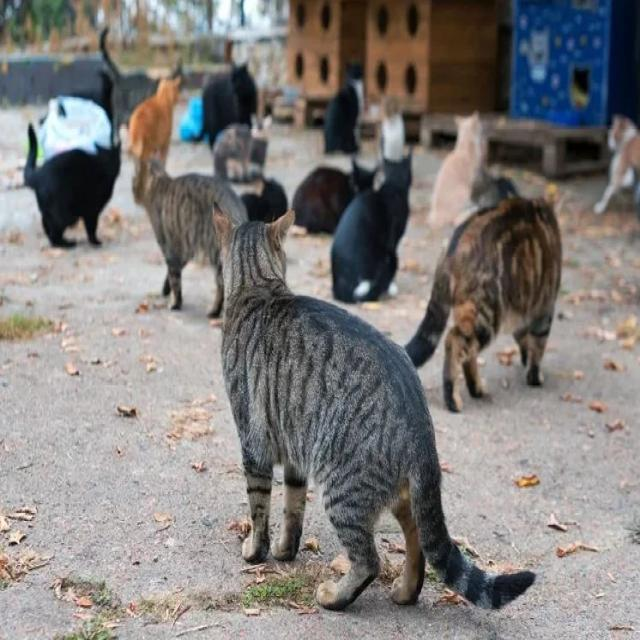cat: (212, 204, 534, 608), (405, 198, 561, 411), (132, 160, 248, 316), (24, 124, 120, 246), (331, 156, 409, 301), (428, 113, 482, 228), (292, 160, 376, 233), (100, 32, 159, 125), (129, 75, 181, 163), (594, 115, 640, 214), (202, 66, 256, 145), (214, 117, 271, 181), (324, 85, 359, 152), (241, 179, 288, 221), (379, 96, 405, 163)
